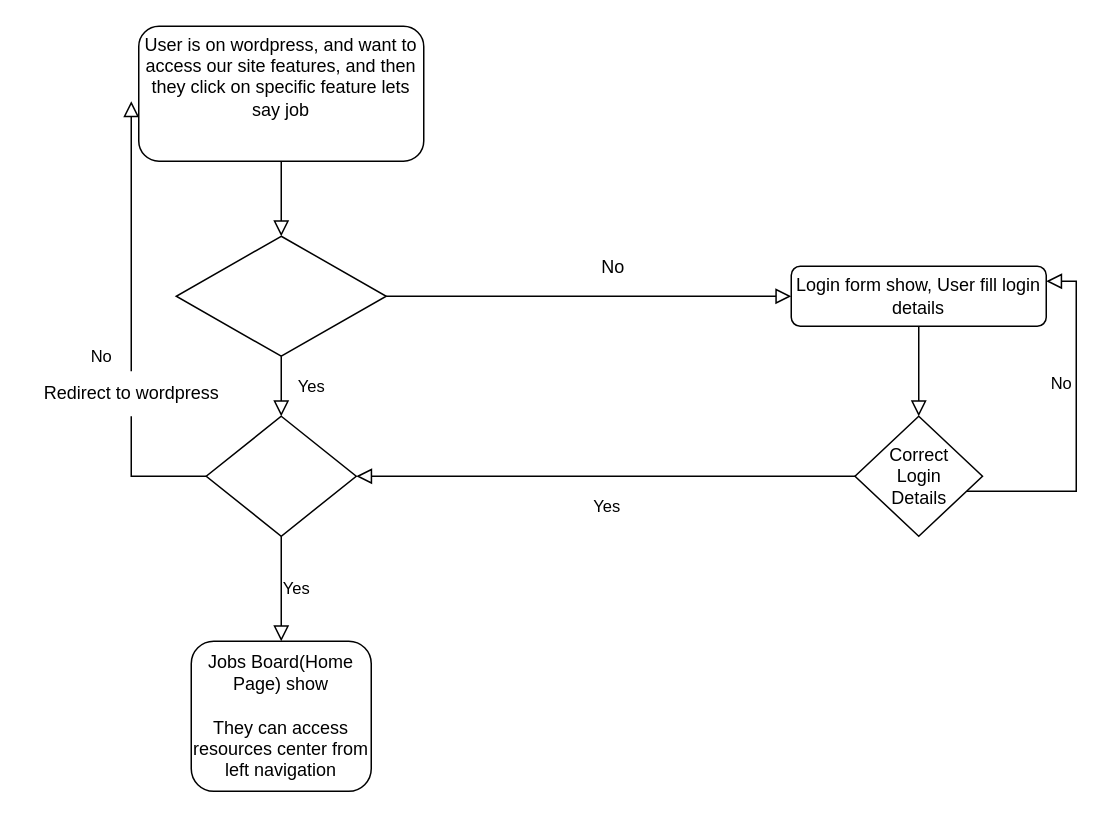
The diagram is 1118 pixels wide and 818 high, and some of its shapes have lost their labels. Here are the shapes that lost their labels. From the top down, the centre of each, then its label:
At (280,295): "Already logged in our site".
At (280,475): "Is Paid User".
